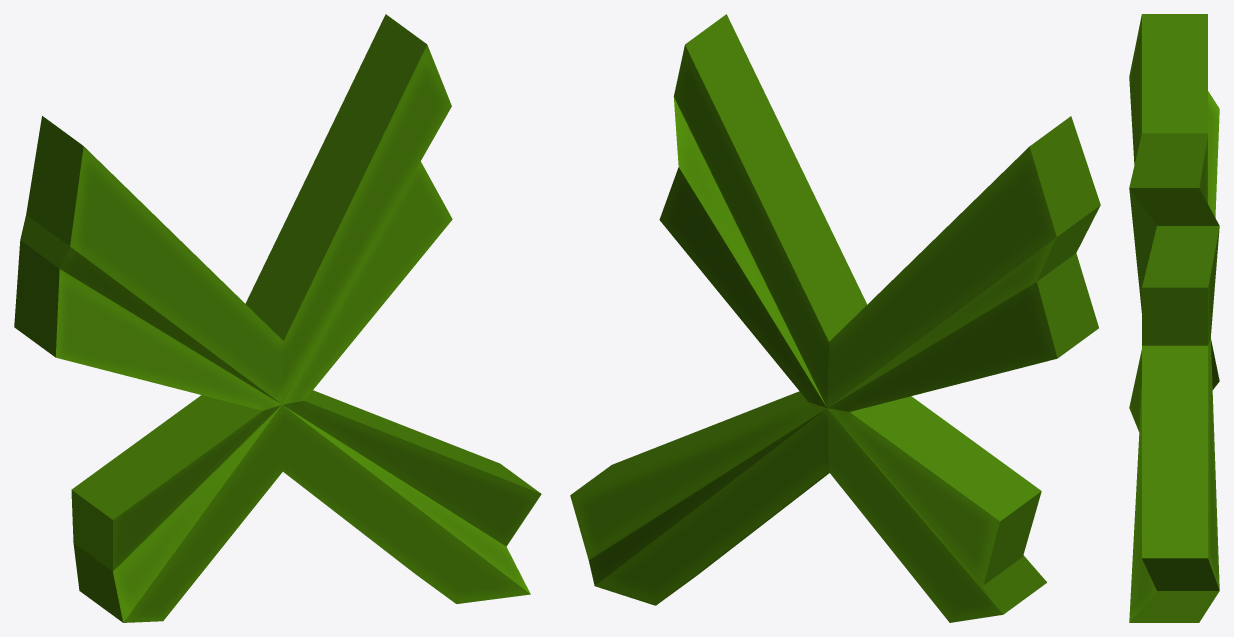
The model's file is X_Icon.fbx.
3 renders of one model, left to right at view 1: azimuth 30°, elevation 25°; view 2: azimuth 150°, elevation 25°; view 3: azimuth 270°, elevation 25°, orthographic. The views are drawn at different scales.
Visible parts, largest first — view 1: polySurface5; view 2: polySurface5; view 3: polySurface5.
Boxes of the visible parts, left/top/right/bottom form: polySurface5: left=14, top=14, right=541, bottom=622; polySurface5: left=570, top=14, right=1100, bottom=622; polySurface5: left=1129, top=14, right=1219, bottom=622.
Size of the model in its own units: 8.31 by 9.28 by 1.68.
Materials: 1 (1 with a texture image).
